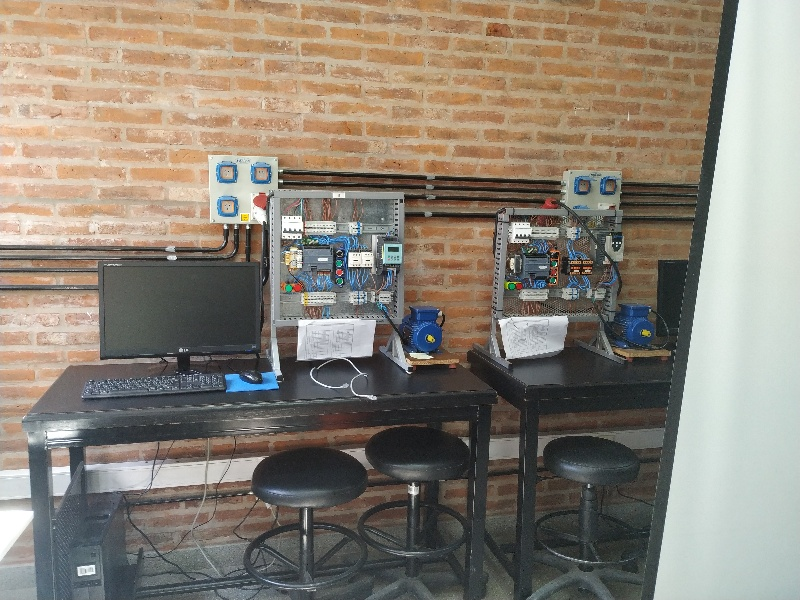Tablero 3: (268, 191, 404, 326)
Tablero 4: (502, 209, 625, 327)
